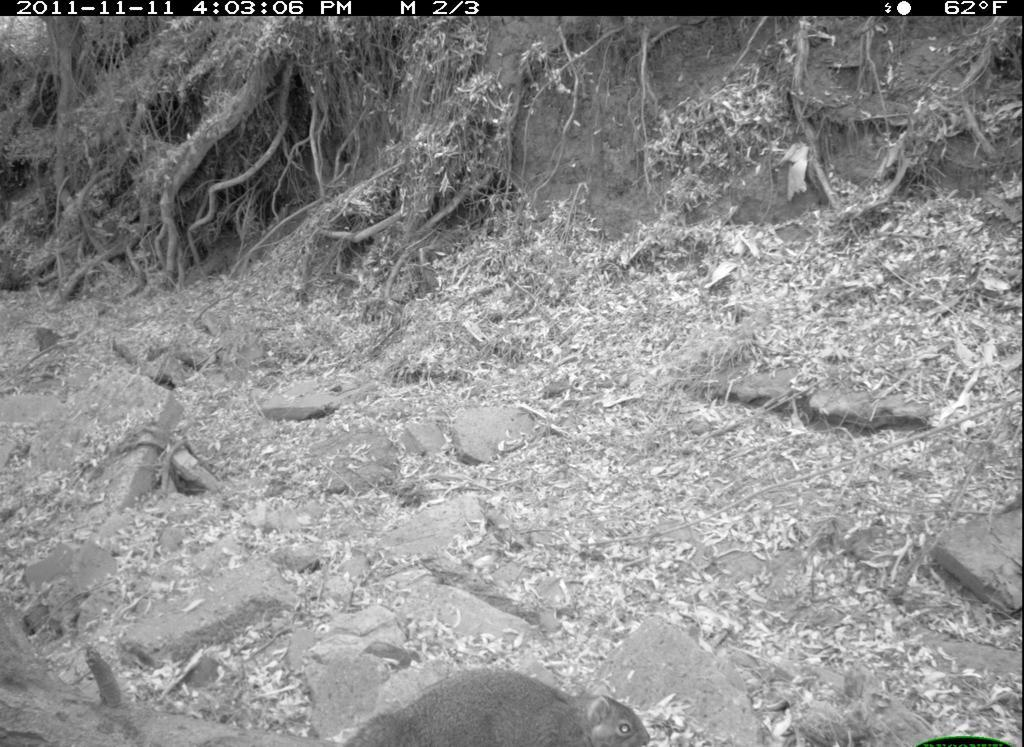squirrel: (331, 658, 671, 747)
